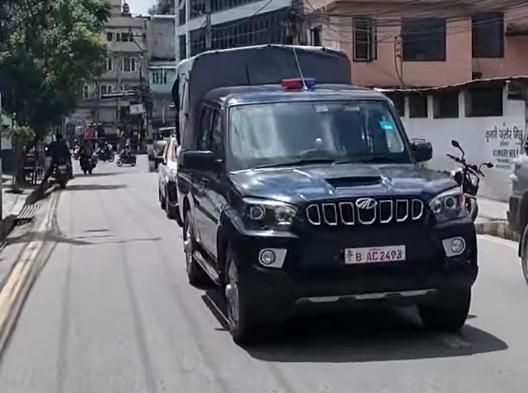police_vehicle: (165, 38, 483, 351)
